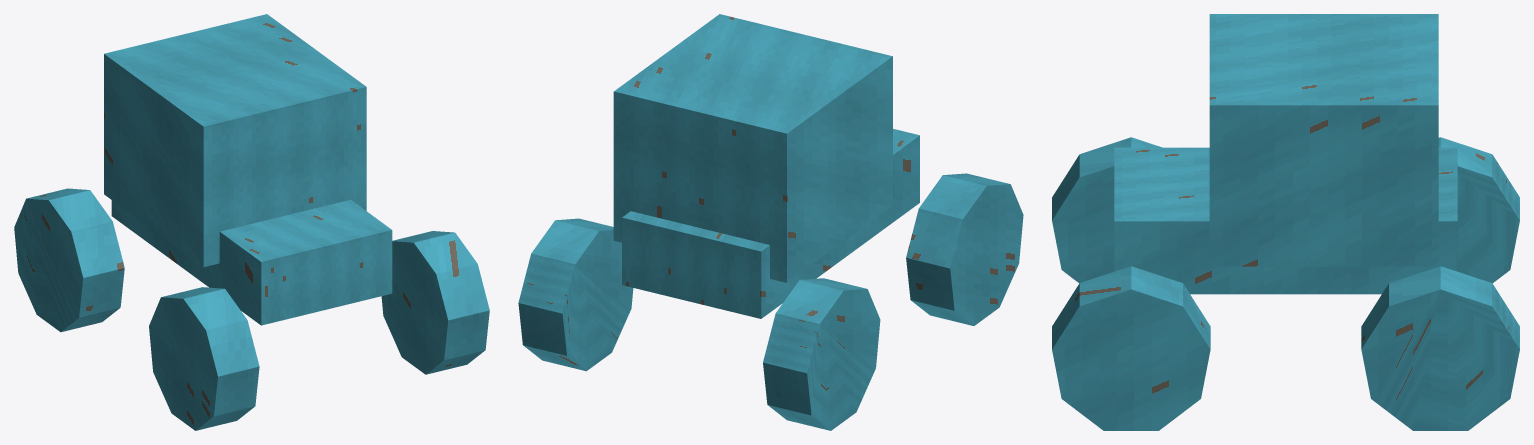
Rendered from vehicle_scout_buggy_a_quality_v2_collision.glb.
3 views of the same model, side by side, from view 1: azimuth 30°, elevation 25°; view 2: azimuth 150°, elevation 25°; view 3: azimuth 270°, elevation 25° (orthographic). The views are drawn at different scales.
Visible parts, largest first — view 1: UCX_vehicle_cage_01, UCX_vehicle_body_00, UCX_wheel_rl, UCX_wheel_fl, UCX_wheel_fr; view 2: UCX_vehicle_cage_01, UCX_vehicle_body_00, UCX_wheel_rl, UCX_wheel_fl, UCX_wheel_rr; view 3: UCX_vehicle_cage_01, UCX_wheel_fr, UCX_wheel_rr, UCX_vehicle_body_00, UCX_wheel_fl, UCX_wheel_rl.
Boxes of the visible parts, left/top/right/bottom form: UCX_vehicle_cage_01: left=104, top=14, right=366, bottom=267; UCX_vehicle_body_00: left=111, top=199, right=392, bottom=325; UCX_wheel_rl: left=14, top=188, right=124, bottom=332; UCX_wheel_fl: left=149, top=287, right=259, bottom=430; UCX_wheel_fr: left=381, top=231, right=489, bottom=374; UCX_vehicle_cage_01: left=613, top=14, right=892, bottom=282; UCX_vehicle_body_00: left=622, top=129, right=919, bottom=318; UCX_wheel_rl: left=763, top=278, right=880, bottom=430; UCX_wheel_fl: left=906, top=173, right=1023, bottom=325; UCX_wheel_rr: left=518, top=218, right=633, bottom=371; UCX_vehicle_cage_01: left=1209, top=14, right=1438, bottom=266; UCX_wheel_fr: left=1052, top=266, right=1210, bottom=430; UCX_wheel_rr: left=1361, top=266, right=1519, bottom=430; UCX_vehicle_body_00: left=1114, top=147, right=1457, bottom=294; UCX_wheel_fl: left=1052, top=137, right=1162, bottom=283; UCX_wheel_rl: left=1438, top=137, right=1519, bottom=283.
Size of the model in its own units: 1.7 by 1.54 by 2.21.
1 material, 1 textured.
